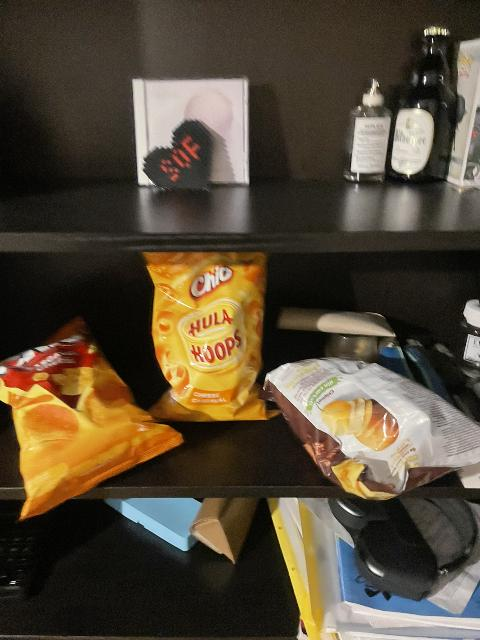Chio Cascaval 125g: (0, 320, 187, 521)
Chio Hula Hoops Cheese 70g: (141, 251, 279, 420)
Lays Beef Grilled Ribs 125g: (262, 358, 480, 498)
